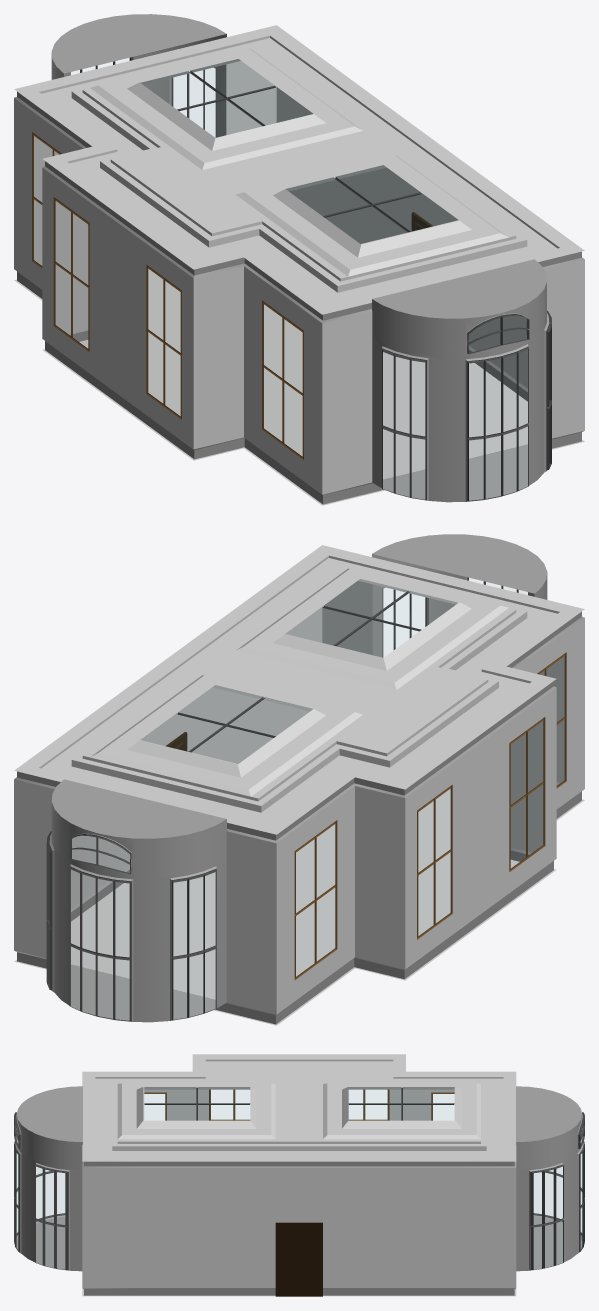
The model's file is Room.fbx.
The picture shows the model from 3 angles, top to bottom: view 1: azimuth 30°, elevation 25°; view 2: azimuth 150°, elevation 25°; view 3: azimuth 270°, elevation 25°; orthographic projection. The views are drawn at different scales.
Parts seen in each view (by area): view 1: polySurface104; view 2: polySurface104; view 3: polySurface104.
Part boxes in pixels (box(x1,y1,x2,y2)): polySurface104: box(14, 14, 584, 505); polySurface104: box(14, 534, 584, 1025); polySurface104: box(14, 1054, 584, 1296).
Bounding box in the file's own units: 1362 × 869 × 3049.
